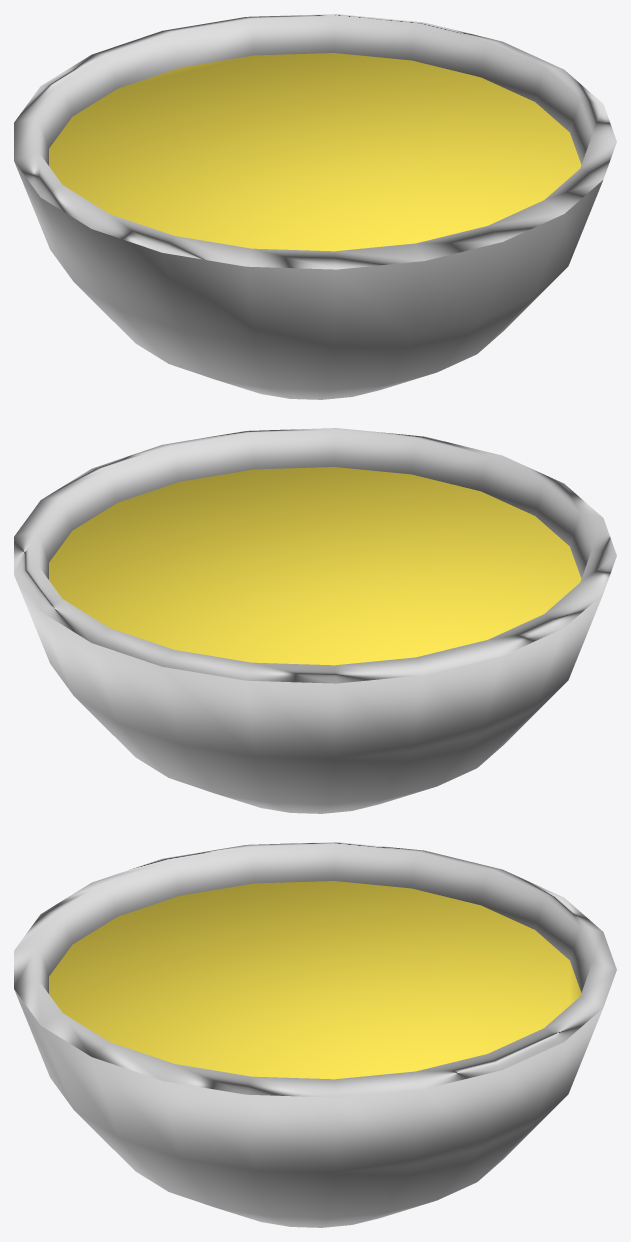
File: Batter.fbx
3 renders of one model, top to bottom at view 1: azimuth 30°, elevation 25°; view 2: azimuth 150°, elevation 25°; view 3: azimuth 270°, elevation 25°, orthographic.
Parts seen in each view (by area): view 1: 球; view 2: 球; view 3: 球.
Boxes of the visible parts, x1=… form: 球: x1=14, y1=14, x2=616, y2=399; 球: x1=14, y1=428, x2=616, y2=813; 球: x1=14, y1=842, x2=616, y2=1227.
Bounding box in the file's own units: 196 × 85.52 × 196.
